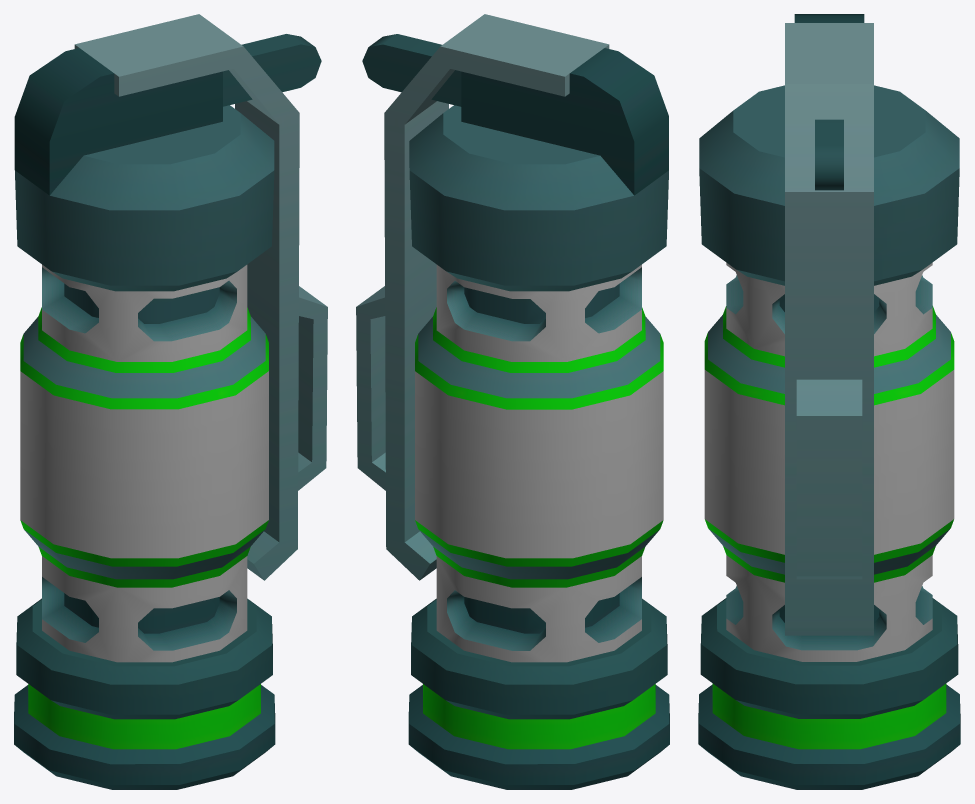
The model's file is Grenade_Flashlight_01.fbx.
3 renders of one model, left to right at view 1: azimuth 30°, elevation 25°; view 2: azimuth 150°, elevation 25°; view 3: azimuth 270°, elevation 25°, orthographic.
Visible parts, largest first — view 1: Grenade_Flashlight_01; view 2: Grenade_Flashlight_01; view 3: Grenade_Flashlight_01.
Part boxes in pixels (x1=…): Grenade_Flashlight_01: x1=14, y1=14, x2=327, y2=789; Grenade_Flashlight_01: x1=356, y1=14, x2=669, y2=789; Grenade_Flashlight_01: x1=698, y1=14, x2=960, y2=789.
Size of the model in its own units: 7.75 by 18.07 by 6.2.
